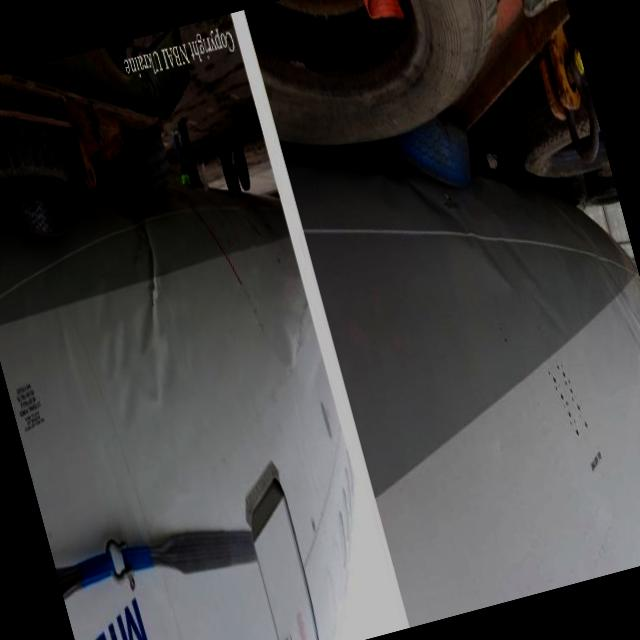dent: (404, 142, 576, 374), (68, 195, 200, 428)
